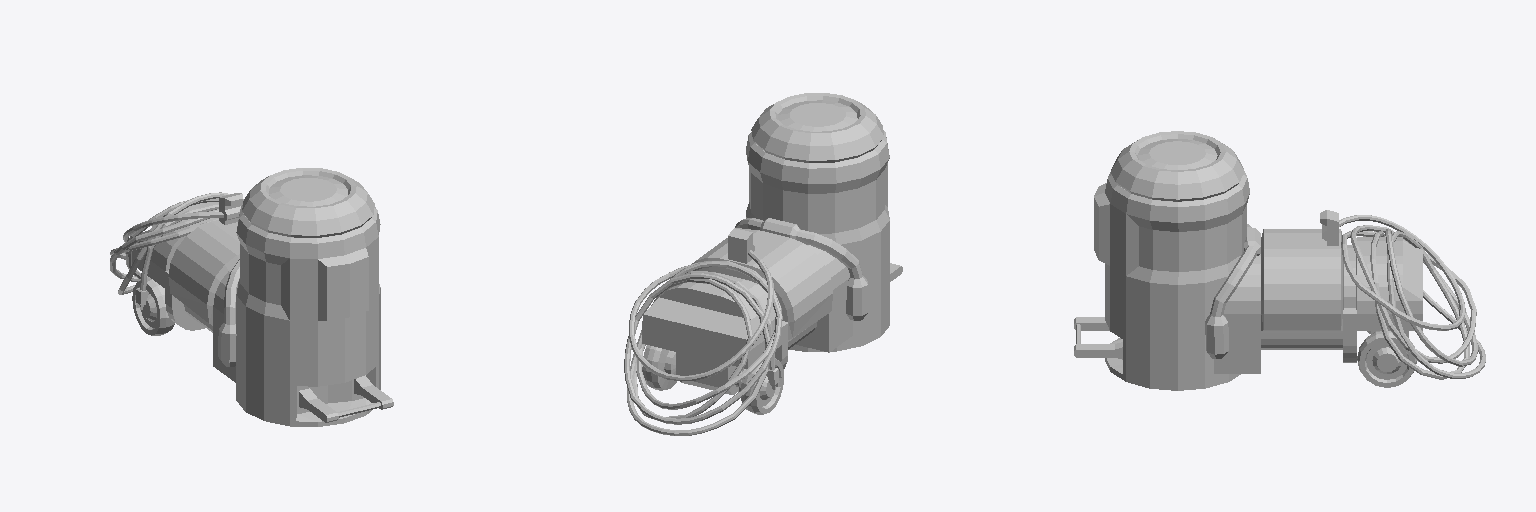
File: Container03.obj
3 renders of one model, left to right at view 1: azimuth 30°, elevation 25°; view 2: azimuth 150°, elevation 25°; view 3: azimuth 270°, elevation 25°, orthographic.
Visible parts, largest first — view 1: Doodad02.16_low_Mesh.023; view 2: Doodad02.16_low_Mesh.023; view 3: Doodad02.16_low_Mesh.023.
Part boxes in pixels (bbox=[...]): Doodad02.16_low_Mesh.023: bbox=[110, 168, 393, 426]; Doodad02.16_low_Mesh.023: bbox=[624, 93, 902, 435]; Doodad02.16_low_Mesh.023: bbox=[1074, 131, 1485, 390].
Size of the model in its own units: 1.41 by 1.91 by 3.39.